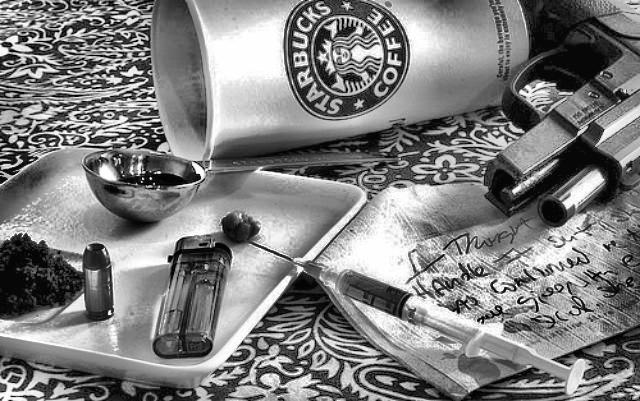pistol: (488, 0, 638, 232)
